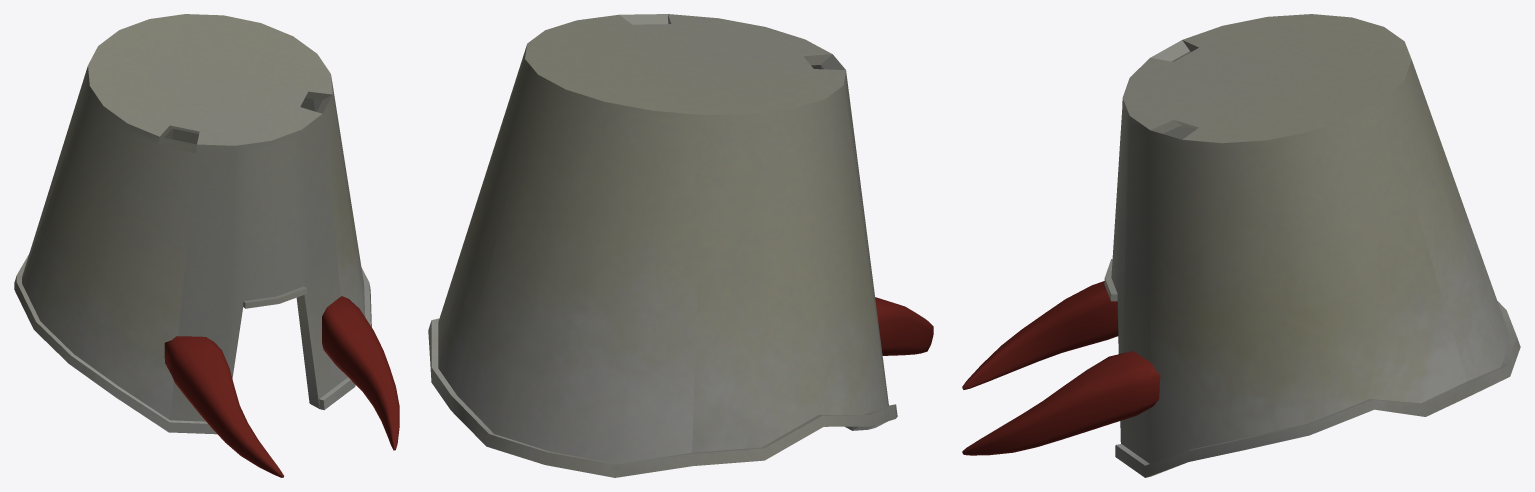
File: AntHeadgearColor.fbx
3 renders of one model, left to right at view 1: azimuth 30°, elevation 25°; view 2: azimuth 150°, elevation 25°; view 3: azimuth 270°, elevation 25°, orthographic. The views are drawn at different scales.
Visible parts, largest first — view 1: pCube3; view 2: pCube3; view 3: pCube3.
Part boxes in pixels (<box>): pCube3: <box>14,14,399,477</box>; pCube3: <box>428,14,933,477</box>; pCube3: <box>962,14,1520,477</box>.
Size of the model in its own units: 59.07 by 55.45 by 76.06.
